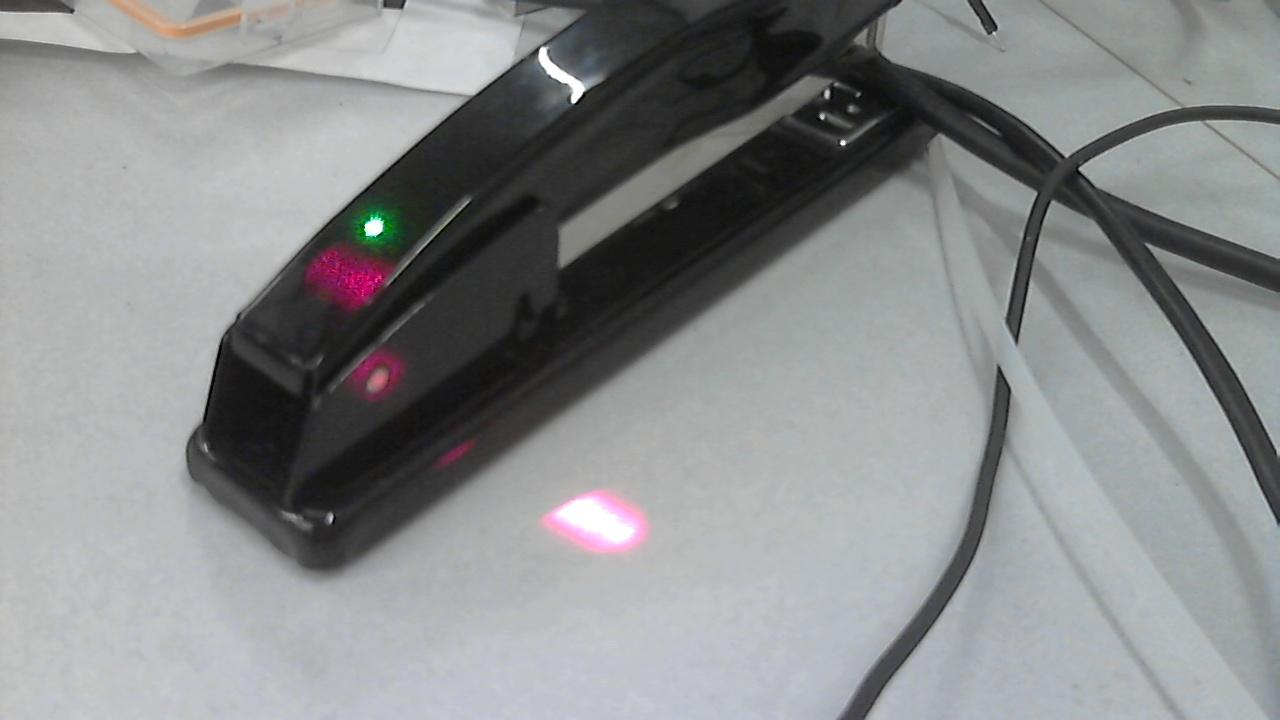object stapler - material metal - color black - Pdfname fduiadew: (300, 204, 412, 404)
